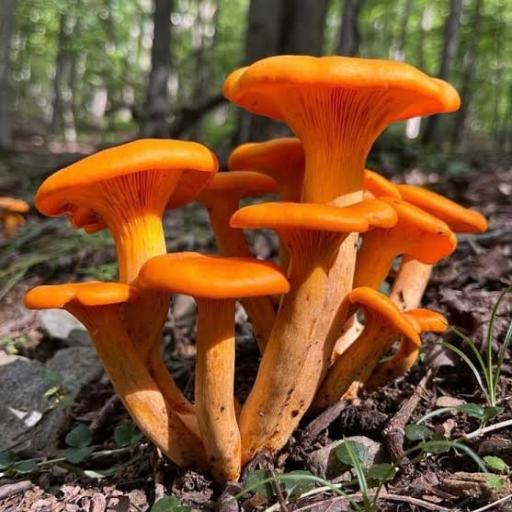Jack O Lantern Mushroom: (220, 193, 402, 461), (218, 32, 466, 203), (131, 249, 296, 492), (30, 272, 202, 469), (35, 127, 210, 253), (344, 160, 453, 295), (326, 281, 424, 419), (391, 177, 489, 303), (178, 163, 280, 259), (228, 128, 311, 195), (397, 300, 454, 386)
